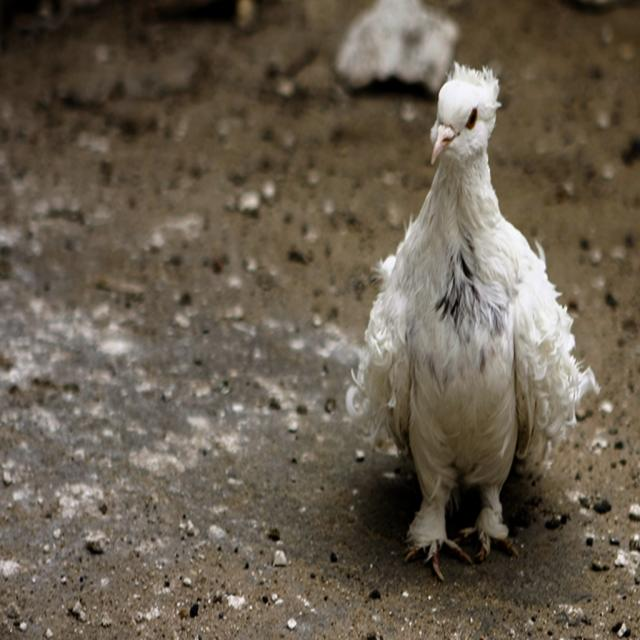Chicken: (350, 52, 602, 593)
